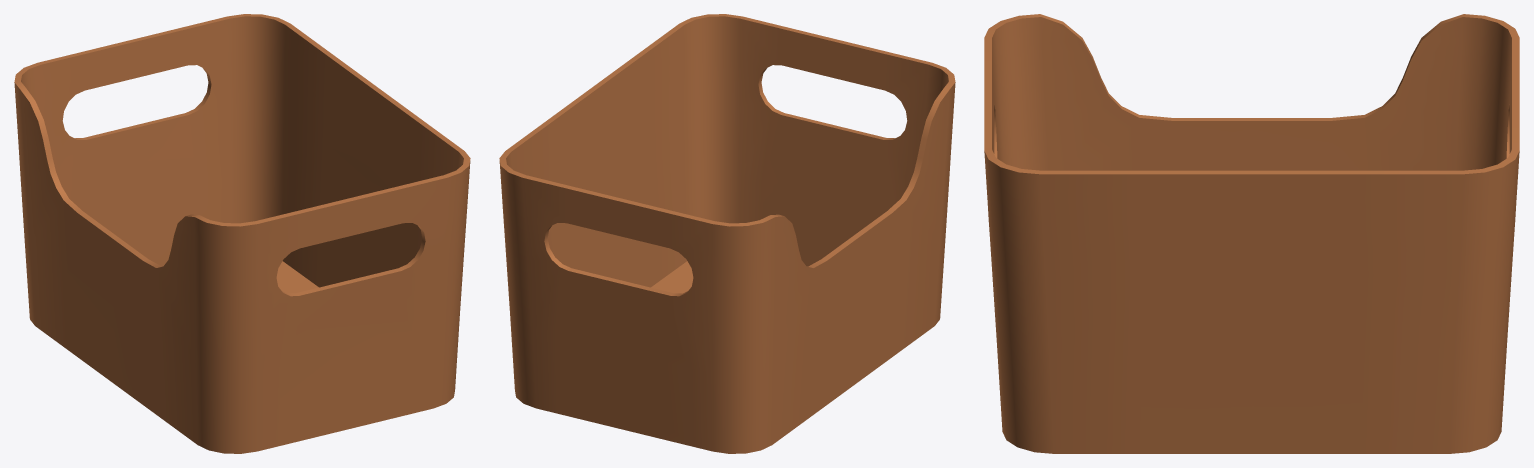
File: saklama_sepeti.fbx
3 renders of one model, left to right at view 1: azimuth 30°, elevation 25°; view 2: azimuth 150°, elevation 25°; view 3: azimuth 270°, elevation 25°, orthographic. The views are drawn at different scales.
Visible parts, largest first — view 1: storage_basket_02; view 2: storage_basket_02; view 3: storage_basket_02.
Boxes of the visible parts, x1,y1,x2,y2 form: storage_basket_02: (14, 14, 470, 453); storage_basket_02: (499, 14, 955, 453); storage_basket_02: (984, 14, 1519, 453).
Size of the model in its own units: 17 by 14.13 by 24.
